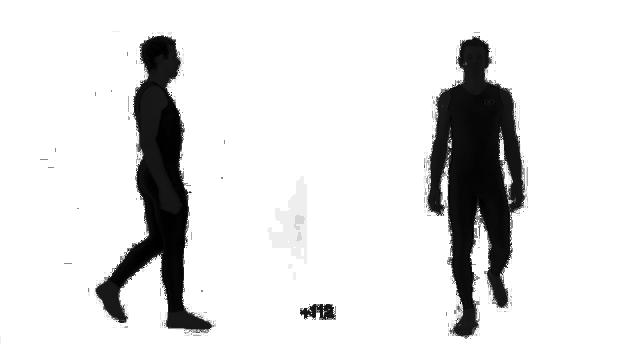berjalan: (89, 34, 213, 332), (427, 38, 528, 340)
